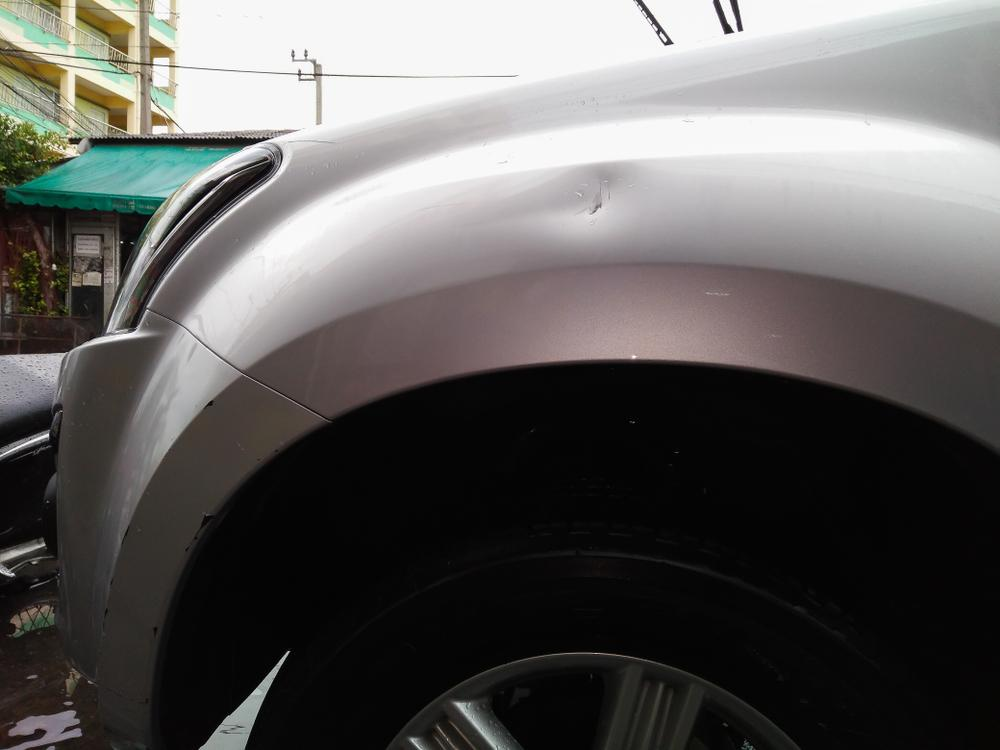dent: (512, 162, 641, 238)
scratch: (151, 513, 216, 643), (101, 524, 132, 636)
